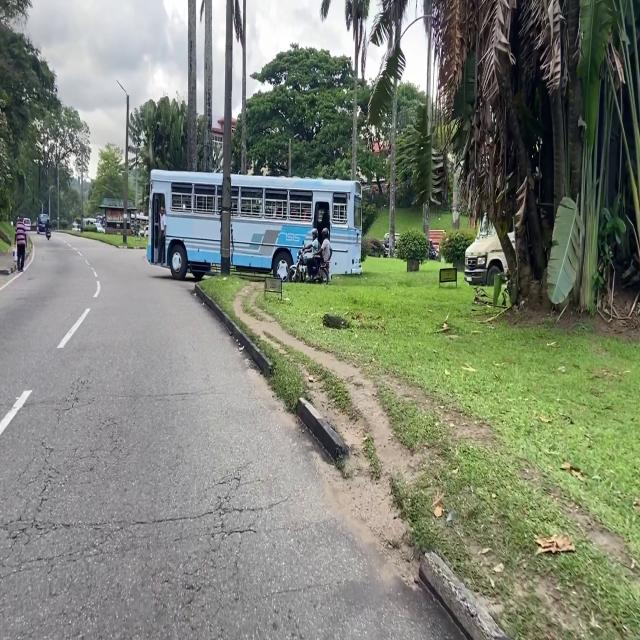bus: (147, 169, 361, 279)
motorcycle: (288, 252, 328, 284), (430, 250, 439, 260), (46, 229, 51, 240)
person: (315, 228, 331, 274), (304, 228, 319, 277), (15, 217, 27, 273), (159, 207, 166, 263), (429, 241, 435, 255), (45, 219, 51, 232)
truck: (464, 215, 514, 286)
van: (37, 213, 49, 233), (24, 217, 31, 231)
